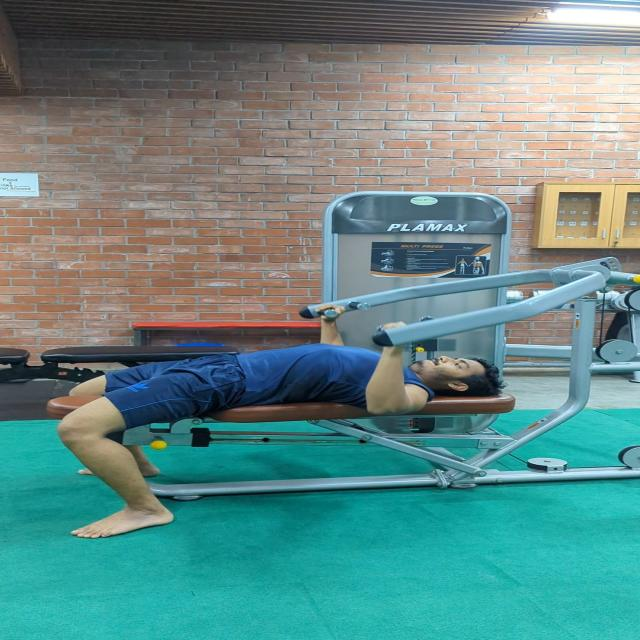Normal_BrenchPress: (32, 277, 537, 543)
